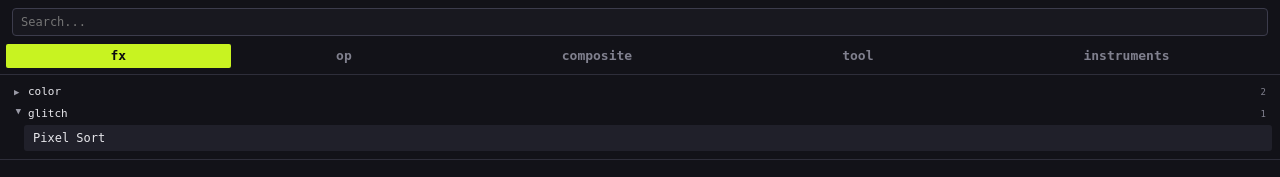
Test case: P3.2 — [composite] tab › composite tab shows empty state when no composite effects in registry
Click the tab with test id "browser-tab-composite" at x=597, y=56, box top-left (457, 44), bottom-right (737, 68)
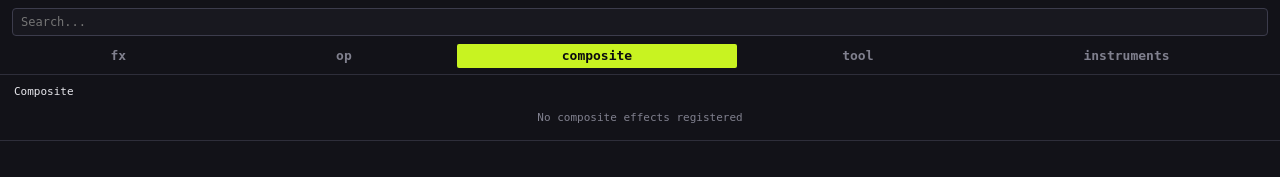
Expected: the element with test id "composite-tab-content" is shown, top-left (14, 85), bottom-right (743, 124)
